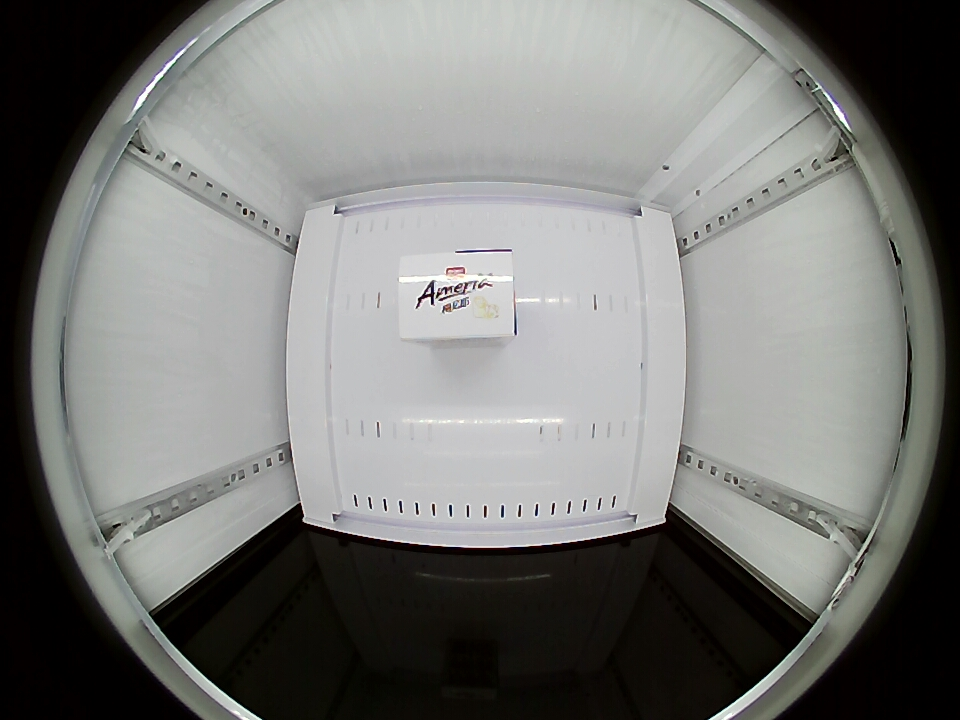meiniye: (397, 251, 516, 343)
